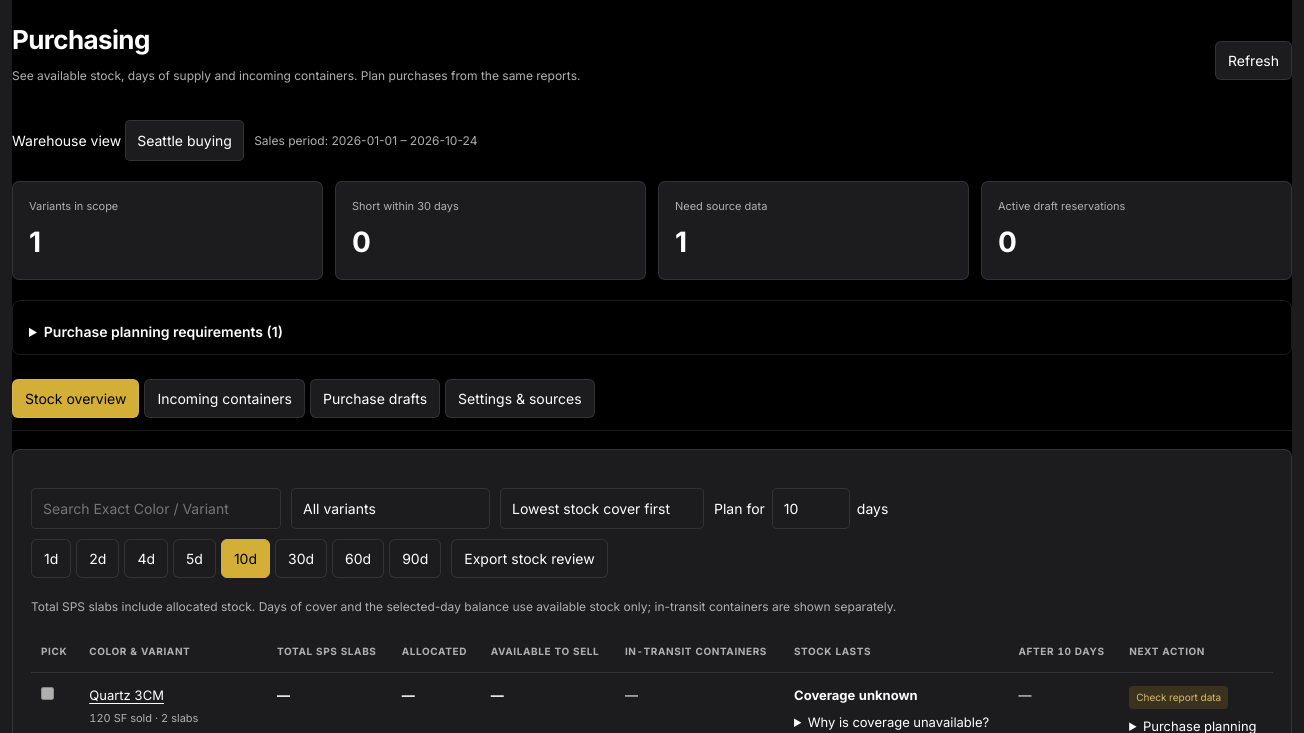
Scenario: independent purchasing resources › keeps stock results usable when only draft history fails
Expected: the button "Quartz 3CM" is shown, [89,686,164,705]
Expected: the text "Drafts could not be loaded:" is not shown
Click the button "Purchase drafts" at (375, 398), box [310,378,440,418]
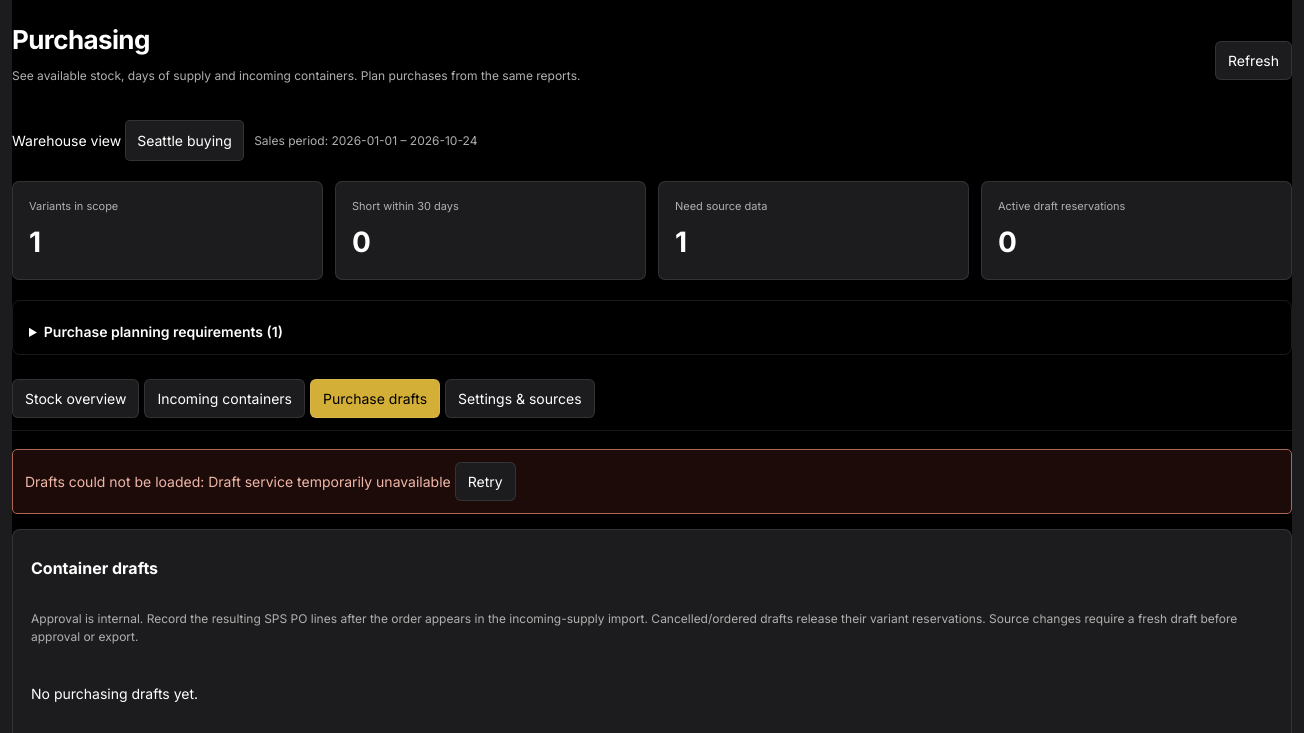
Expected: the text "Drafts could not be loaded: Draft service temporarily unavailable Retry" is shown, [12,448,1292,514]
Click the button "Stock overview" at (76, 398), box [12,378,139,418]
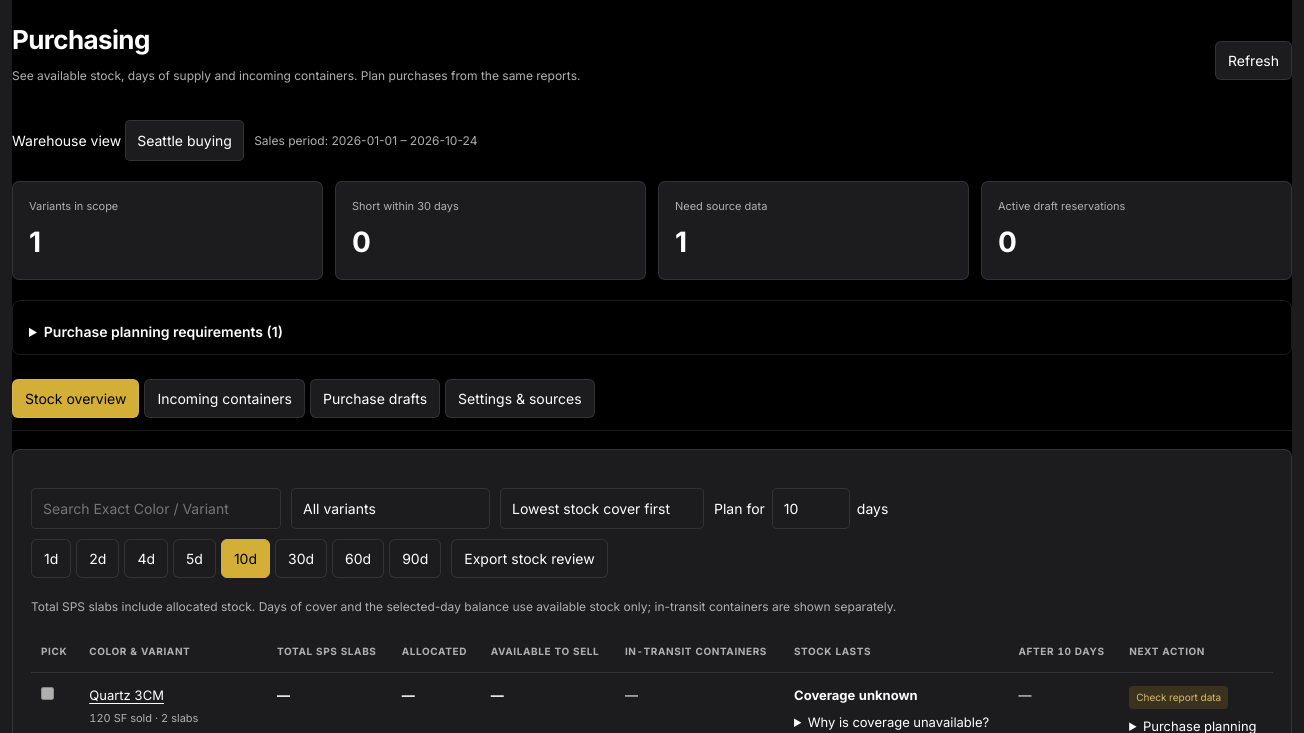
Expected: the button "Quartz 3CM" is shown, [89,686,164,705]
